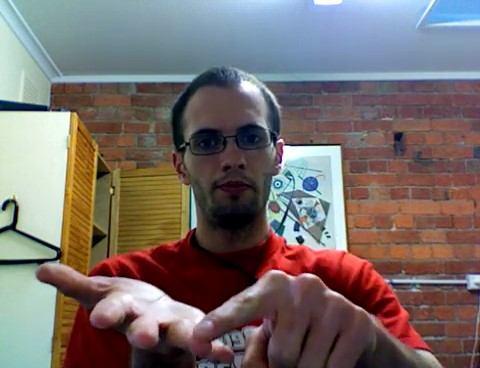O: (26, 239, 391, 368)
